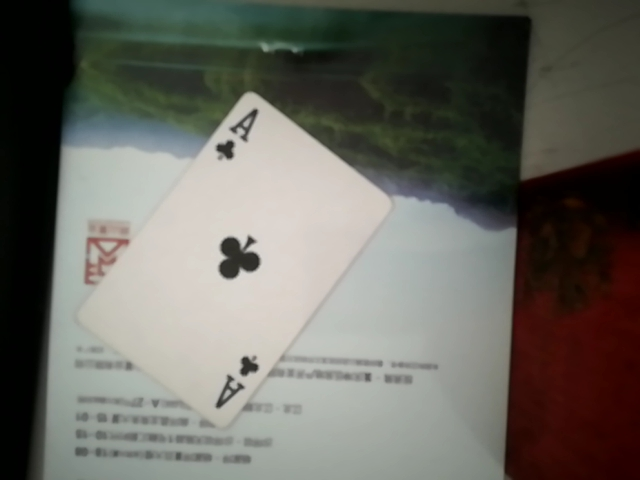mh a: (75, 89, 393, 415)
